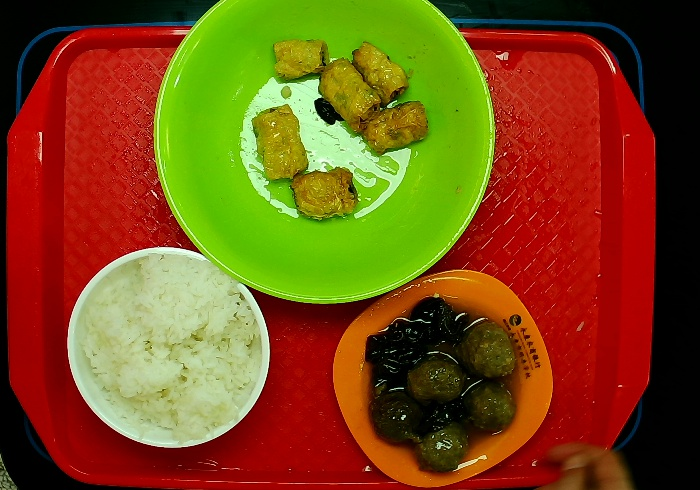YKMZ-Fan_Wan: (55, 241, 271, 457)
YKMZ-Ju_Se_Fang_Die: (323, 264, 562, 489)
YKMZ-Lv_Se_Tang_Wan: (145, 1, 505, 315)
